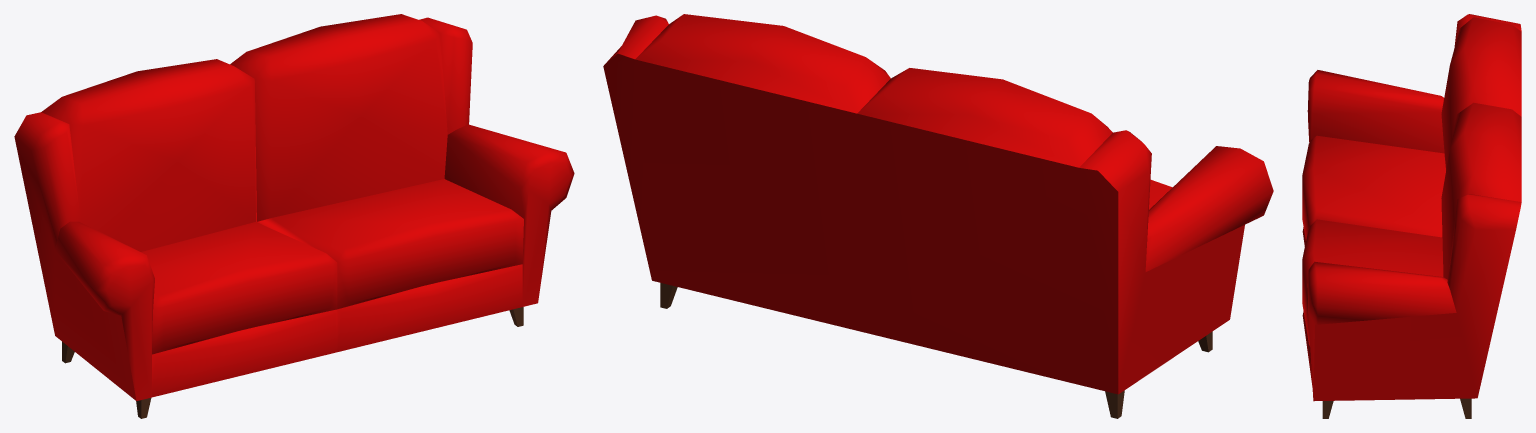
File: Couch.fbx
The picture shows the model from 3 angles, left to right: view 1: azimuth 30°, elevation 25°; view 2: azimuth 150°, elevation 25°; view 3: azimuth 270°, elevation 25°; orthographic projection. The views are drawn at different scales.
Visible parts, largest first — view 1: Couch; view 2: Couch; view 3: Couch.
Boxes of the visible parts, x1,y1,x2,y2 form: Couch: [14, 14, 574, 418]; Couch: [603, 14, 1273, 418]; Couch: [1302, 14, 1521, 418].
Size of the model in its own units: 215 by 110 by 90.79.
